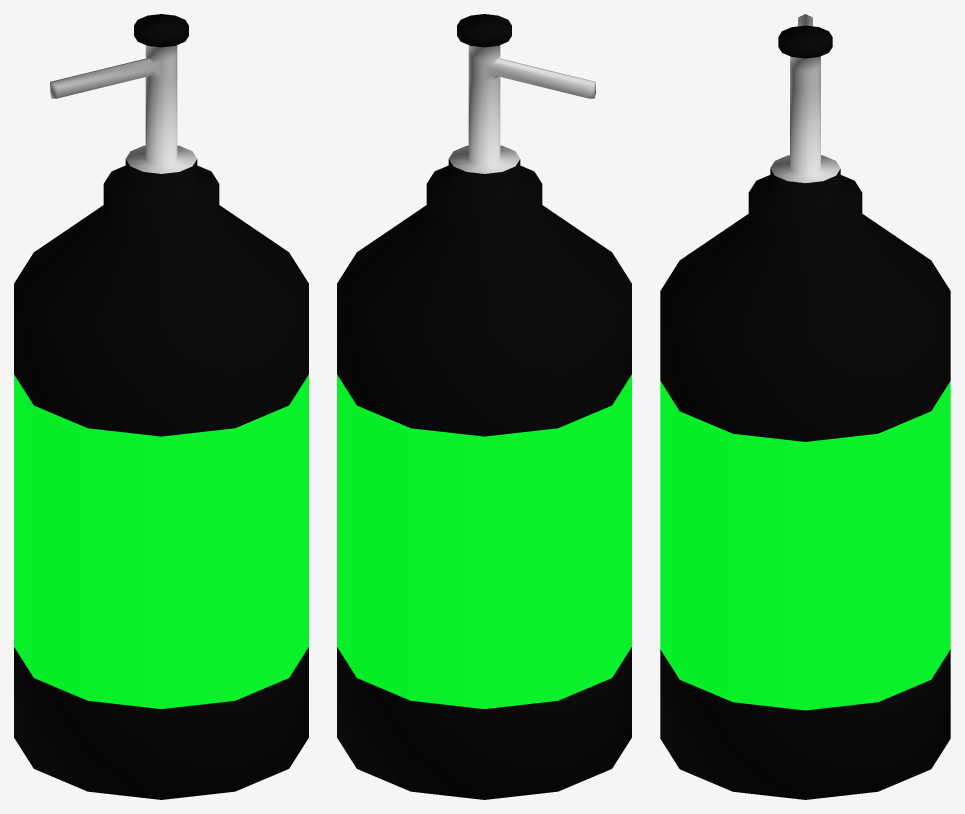
The model's file is SoapDispenser.glb.
3 views of the same model, side by side, from view 1: azimuth 30°, elevation 25°; view 2: azimuth 150°, elevation 25°; view 3: azimuth 270°, elevation 25° (orthographic).
Parts seen in each view (by area): view 1: SOAP DISP.002; view 2: SOAP DISP.002; view 3: SOAP DISP.002.
Part boxes in pixels (bbox=[...]): SOAP DISP.002: bbox=[14, 14, 308, 799]; SOAP DISP.002: bbox=[337, 14, 631, 799]; SOAP DISP.002: bbox=[660, 14, 950, 799].
Bounding box in the file's own units: 0.2945 × 0.7851 × 0.2945.
